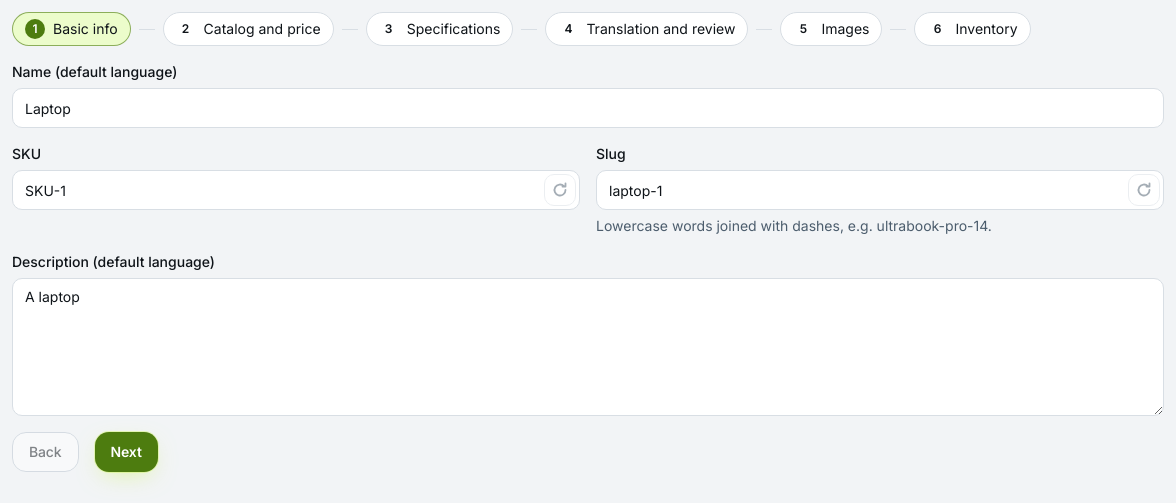
Test case: ProductForm wizard › jumps to the error step when save reports validation errors
This screenshot has width=1176, height=503.
# Jump straight to the last step, where the click used to look dead.
Step 1. Click the button with aria-label "6. Inventory" → (973, 29), box [914, 12, 1031, 46]
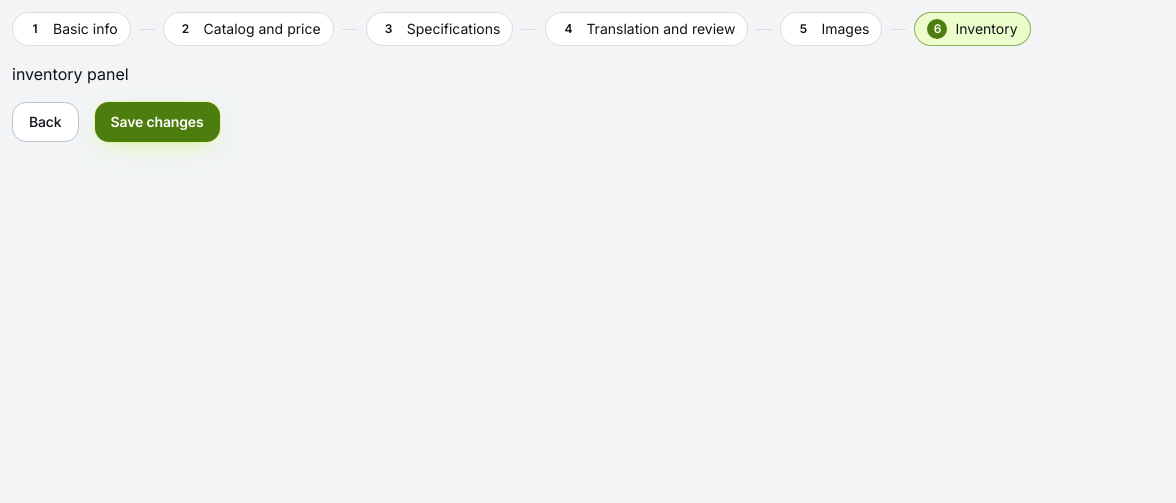
Check: the text "inventory panel" is shown, box [12, 64, 129, 84]
Step 2. Click the button "Save changes" → (157, 122), box [94, 102, 220, 142]
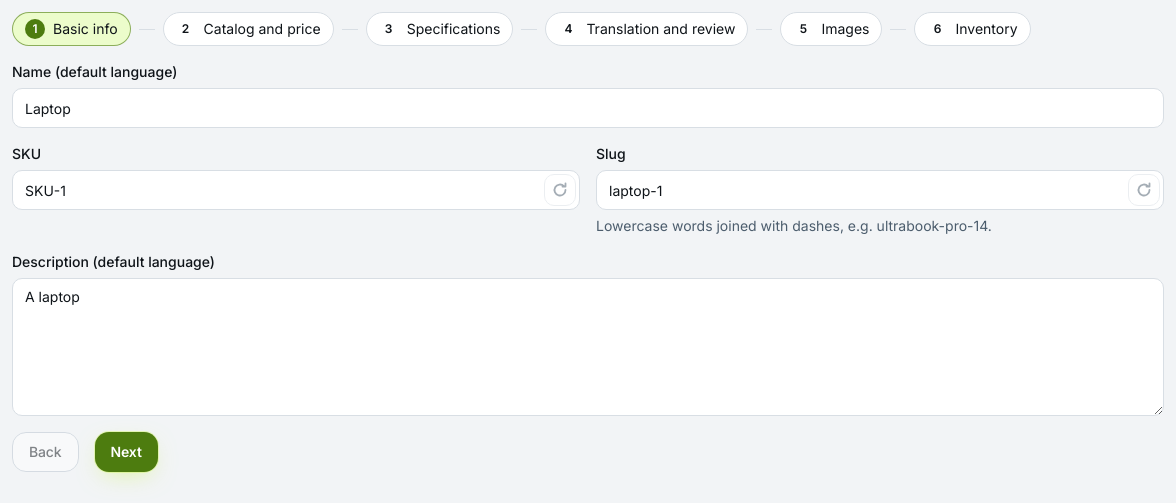
Check: the field labelled "SKU" is shown, box [12, 170, 580, 210]
